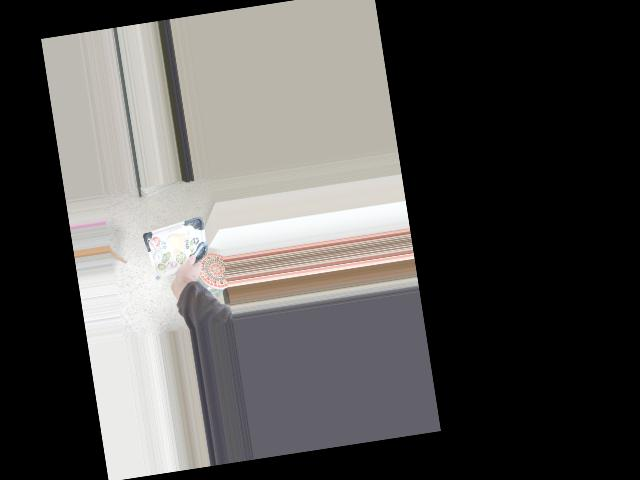cheese: (145, 233, 201, 289)
